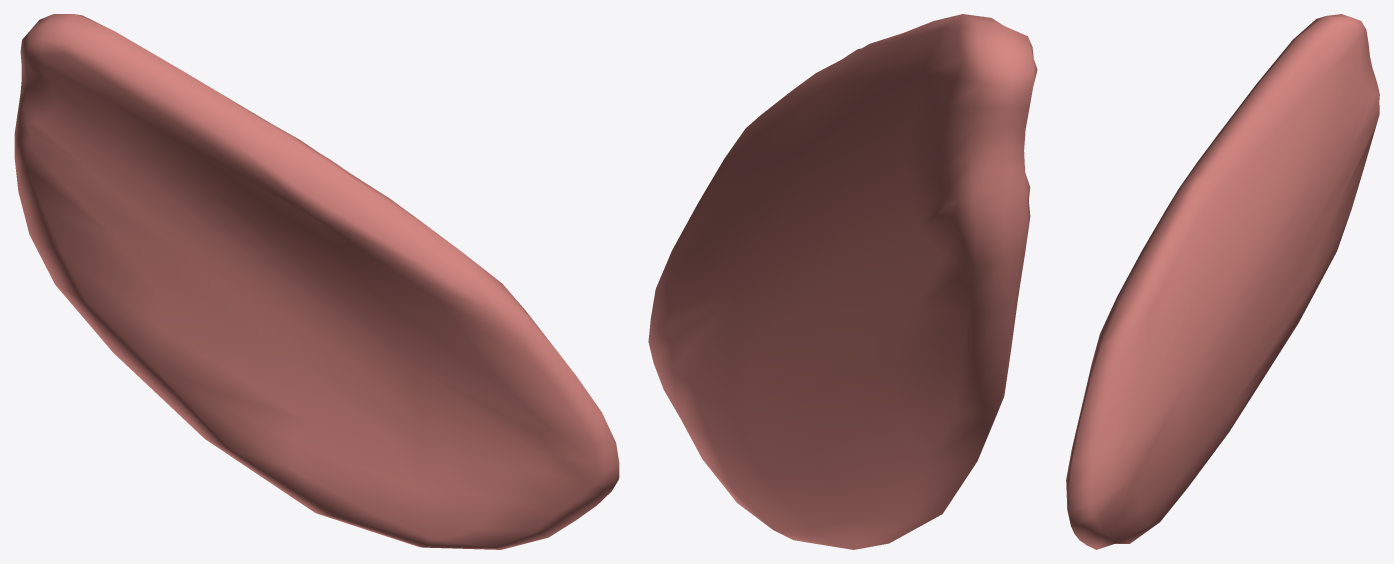
The picture shows the model from 3 angles, left to right: view 1: azimuth 30°, elevation 25°; view 2: azimuth 150°, elevation 25°; view 3: azimuth 270°, elevation 25°; orthographic projection. The views are drawn at different scales.
Visible parts, largest first — view 1: ZA_91d7d76d341a35d0; view 2: ZA_91d7d76d341a35d0; view 3: ZA_91d7d76d341a35d0.
Boxes of the visible parts, box(x1,y1,x2,y2) form: ZA_91d7d76d341a35d0: box(14, 14, 619, 549); ZA_91d7d76d341a35d0: box(648, 14, 1037, 549); ZA_91d7d76d341a35d0: box(1066, 14, 1379, 549).
Size of the model in its own units: 0.00411 by 0.00464 by 0.00321.
